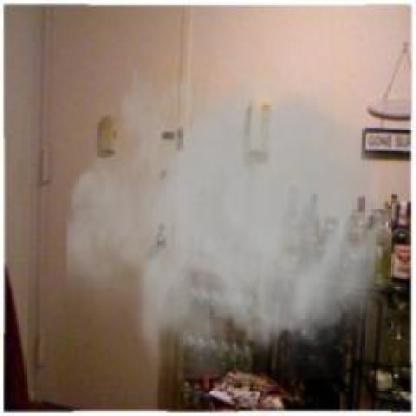Smoke: (67, 36, 401, 378)
